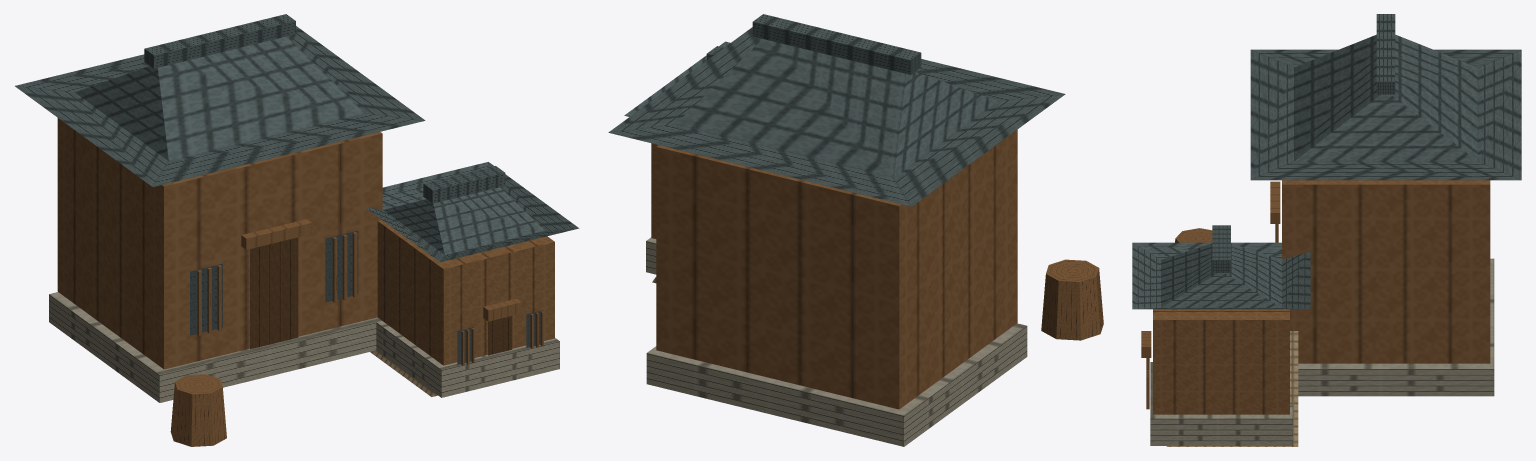
Rendered from domestic-BARRACKS-2-lod1.glb.
3 renders of one model, left to right at view 1: azimuth 30°, elevation 25°; view 2: azimuth 150°, elevation 25°; view 3: azimuth 270°, elevation 25°, orthographic. The views are drawn at different scales.
Bounding box in the file's own units: 0.7658 × 0.6 × 0.7095.
1 material, 1 textured.
